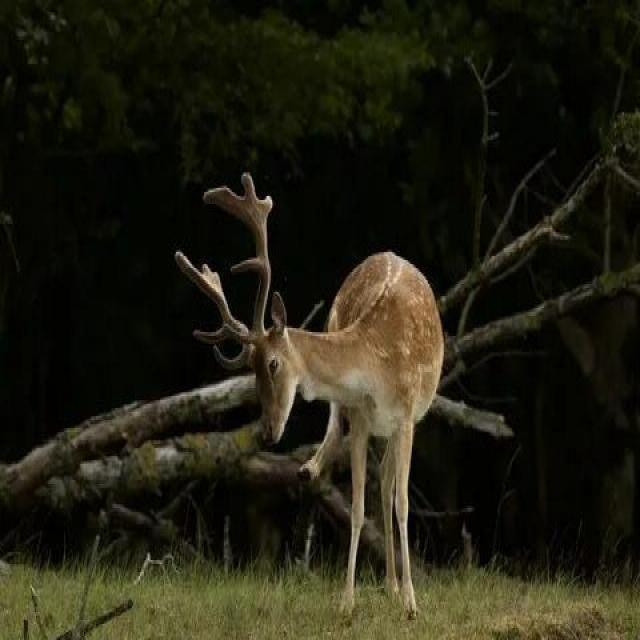deer: (198, 215, 500, 574)
